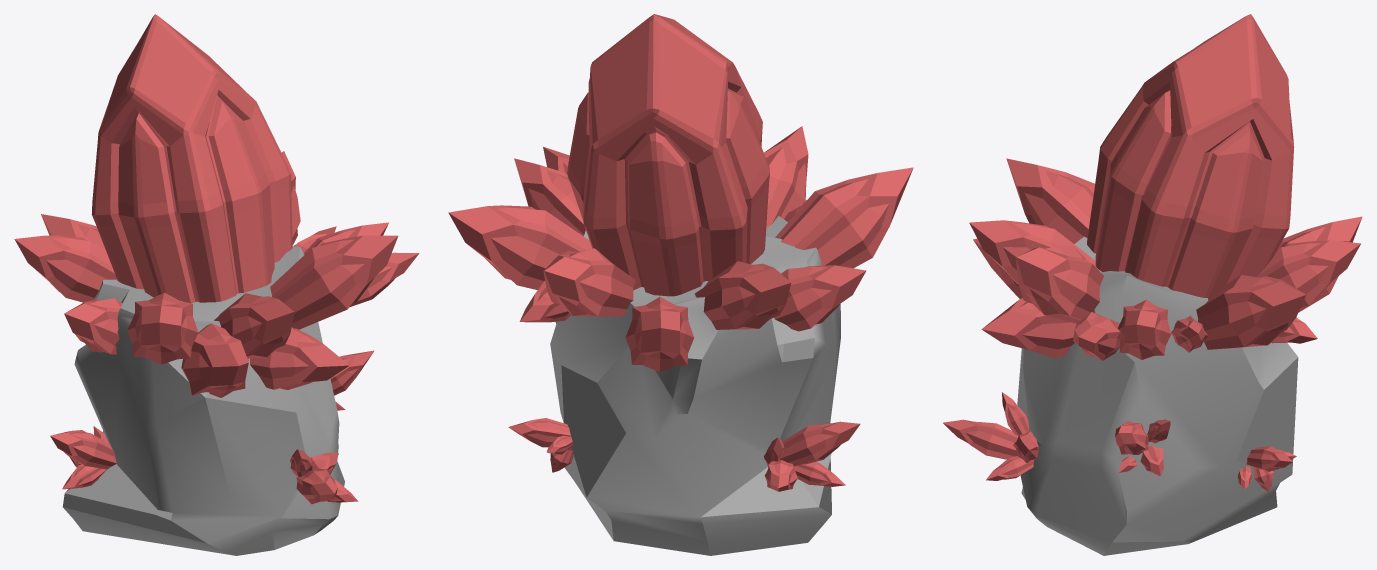
The model's file is Beta_Cristales.fbx.
3 views of the same model, side by side, from view 1: azimuth 30°, elevation 25°; view 2: azimuth 150°, elevation 25°; view 3: azimuth 270°, elevation 25° (orthographic). The views are drawn at different scales.
Visible parts, largest first — view 1: Beta_Cristales; view 2: Beta_Cristales; view 3: Beta_Cristales.
Boxes of the visible parts, x1,y1,x2,y2 form: Beta_Cristales: (14, 14, 419, 555); Beta_Cristales: (448, 14, 913, 555); Beta_Cristales: (943, 14, 1362, 555).
Bounding box in the file's own units: 1.83 × 2.52 × 1.96.
